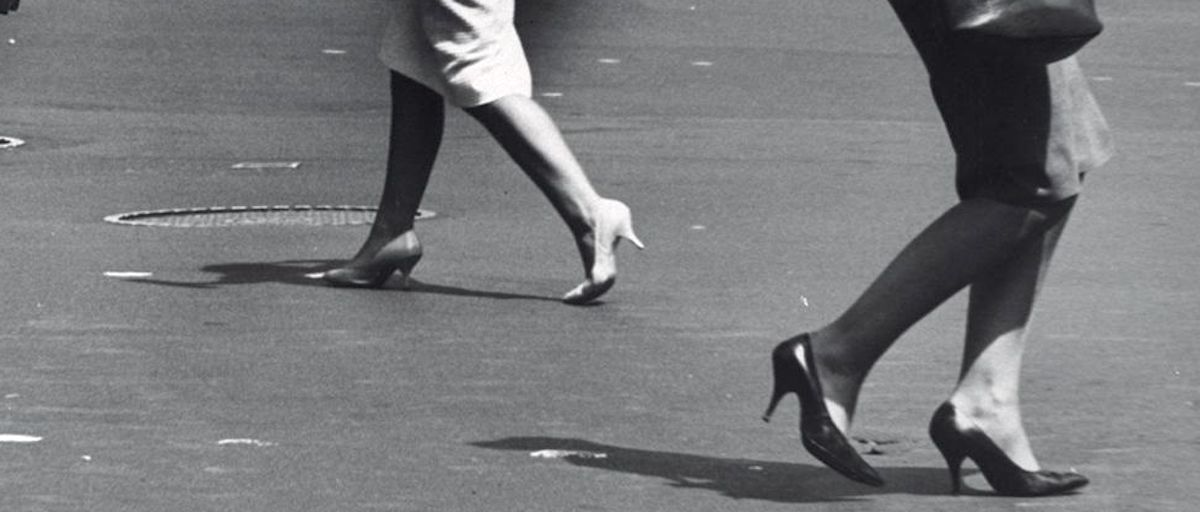feet: (756, 305, 1092, 498), (301, 164, 654, 313)
